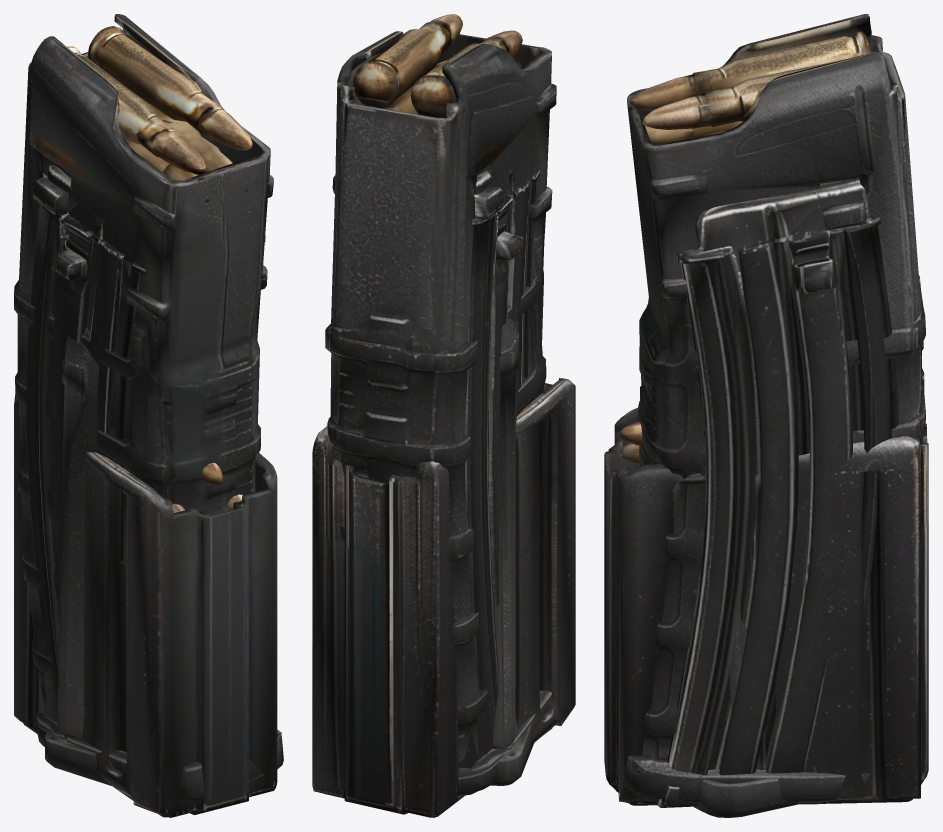
The model's file is mags-normal.glb.
The picture shows the model from 3 angles, left to right: view 1: azimuth 30°, elevation 25°; view 2: azimuth 150°, elevation 25°; view 3: azimuth 270°, elevation 25°; orthographic projection. The views are drawn at different scales.
Parts seen in each view (by area): view 1: mag-m416-0, mag-rifle-0, mag-smg-0, mag-pistol-0, mag-m416-4, mag-m416-5, mag-m416-3, mag-rifle-2; view 2: mag-m416-0, mag-rifle-0, mag-smg-0, mag-pistol-0, mag-m416-4, mag-m416-5; view 3: mag-smg-0, mag-m416-0, mag-rifle-0, mag-m416-5, mag-pistol-0, mag-m416-4, mag-rifle-2.
Part boxes in pixels (x1,y1,x2,y2): mag-m416-0: [14, 14, 283, 802]; mag-rifle-0: [14, 395, 277, 817]; mag-smg-0: [26, 165, 265, 701]; mag-pistol-0: [45, 327, 111, 785]; mag-m416-4: [88, 26, 252, 150]; mag-m416-5: [67, 46, 209, 202]; mag-m416-3: [140, 97, 248, 191]; mag-rifle-2: [172, 463, 223, 513]; mag-m416-0: [325, 31, 556, 795]; mag-rifle-0: [312, 378, 575, 817]; mag-smg-0: [465, 167, 539, 733]; mag-pistol-0: [491, 318, 533, 785]; mag-m416-4: [352, 14, 462, 108]; mag-m416-5: [410, 30, 522, 117]; mag-smg-0: [653, 178, 898, 807]; mag-m416-0: [615, 14, 925, 804]; mag-rifle-0: [604, 407, 928, 805]; mag-m416-5: [630, 31, 870, 144]; mag-pistol-0: [694, 383, 797, 817]; mag-m416-4: [642, 61, 838, 129]; mag-rifle-2: [619, 422, 642, 464].
Size of the model in its own units: 0.1182 by 0.4521 by 0.1807.
Materials: 25 (25 with a texture image).
